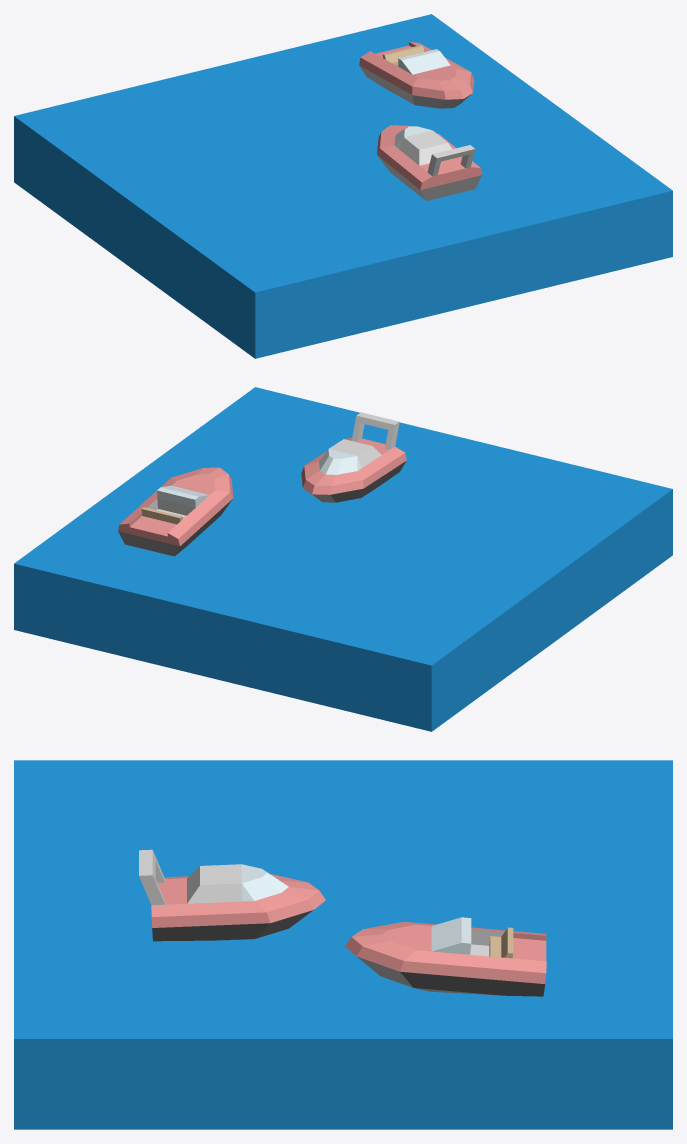
File: shallowWater.glb
3 renders of one model, top to bottom at view 1: azimuth 30°, elevation 25°; view 2: azimuth 150°, elevation 25°; view 3: azimuth 270°, elevation 25°, orthographic. The views are drawn at different scales.
Parts seen in each view (by area): view 1: Mesh1 Group1 Model.003; view 2: Mesh1 Group1 Model.003; view 3: Mesh1 Group1 Model.003.
Boxes of the visible parts, <box> form: Mesh1 Group1 Model.003: <box>14,14,672,358</box>; Mesh1 Group1 Model.003: <box>14,387,672,731</box>; Mesh1 Group1 Model.003: <box>14,760,672,1129</box>.
Size of the model in its own units: 12 by 3.07 by 12.
